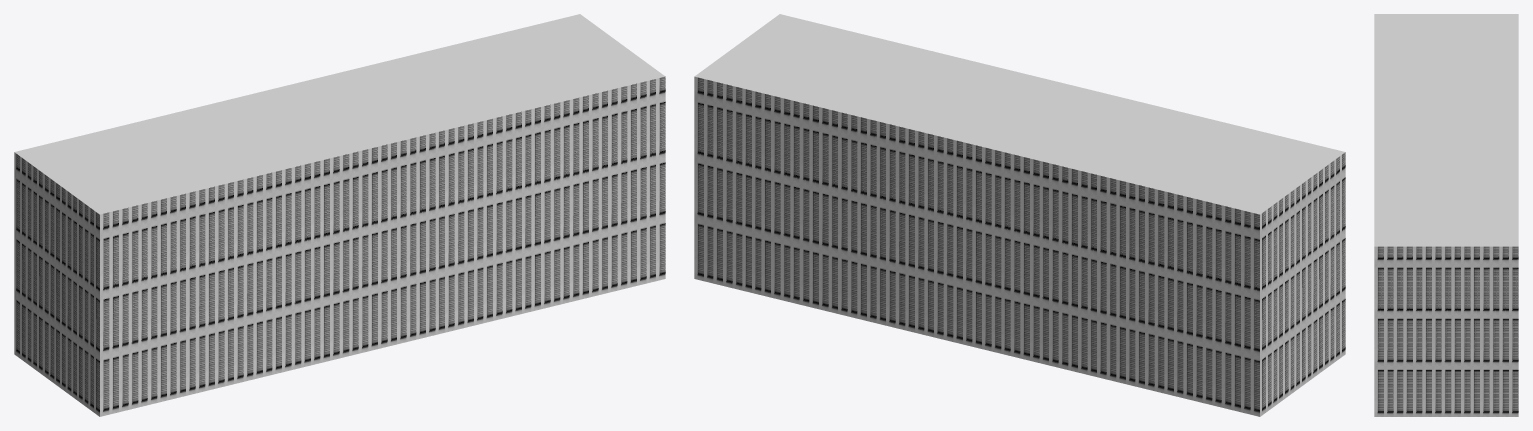
Rendered from jcut_1.fbx.
The picture shows the model from 3 angles, left to right: view 1: azimuth 30°, elevation 25°; view 2: azimuth 150°, elevation 25°; view 3: azimuth 270°, elevation 25°; orthographic projection. The views are drawn at different scales.
Parts seen in each view (by area): view 1: CityEngineMaterial_2_m, CityEngineMaterial_m; view 2: CityEngineMaterial_2_m, CityEngineMaterial_m; view 3: CityEngineMaterial_m, CityEngineMaterial_2_m.
Part boxes in pixels (x1,y1,x2,y2): CityEngineMaterial_2_m: (14,76,665,416); CityEngineMaterial_m: (14,14,665,214); CityEngineMaterial_2_m: (694,76,1345,416); CityEngineMaterial_m: (694,14,1345,214); CityEngineMaterial_m: (1374,14,1518,246); CityEngineMaterial_2_m: (1374,246,1518,416).
Bounding box in the file's own units: 58.54 × 20 × 15.33.
